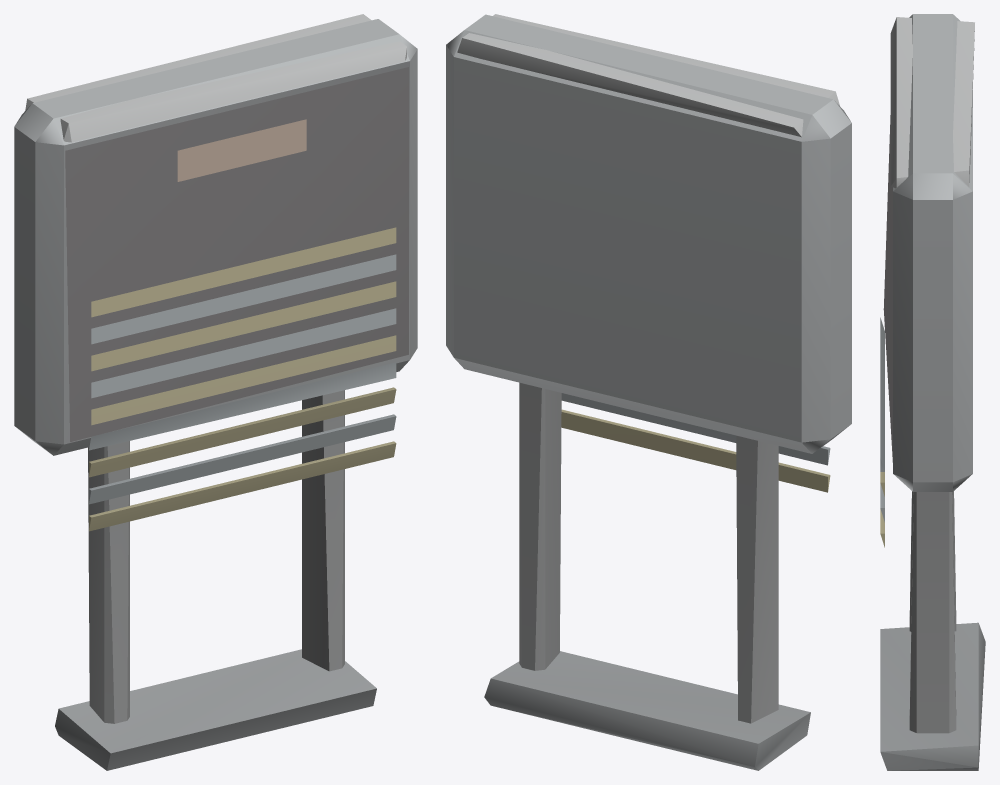
Rendered from depboard.lod1.glb.
3 renders of one model, left to right at view 1: azimuth 30°, elevation 25°; view 2: azimuth 150°, elevation 25°; view 3: azimuth 270°, elevation 25°, orthographic. The views are drawn at different scales.
Bounding box in the file's own units: 1.78 × 2.9 × 0.45.
